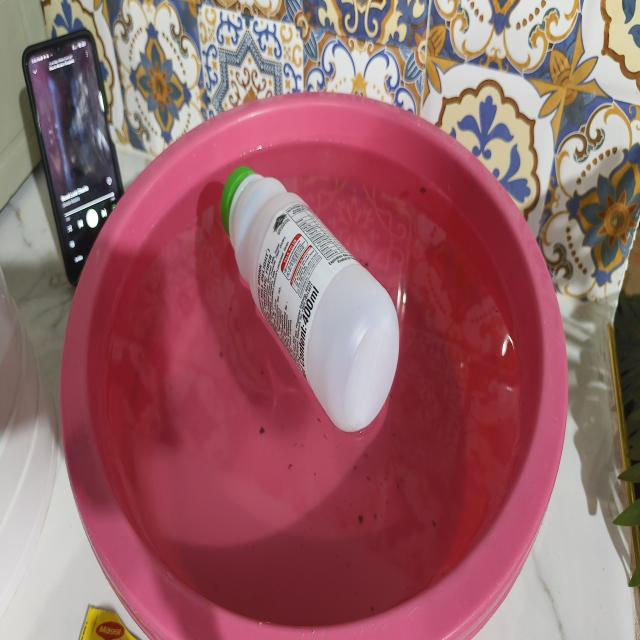Plastic Bottle: (221, 166, 399, 432)
